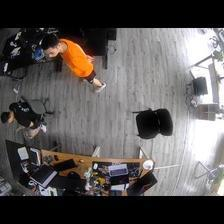normal: (40, 32, 107, 93), (1, 96, 50, 140)
